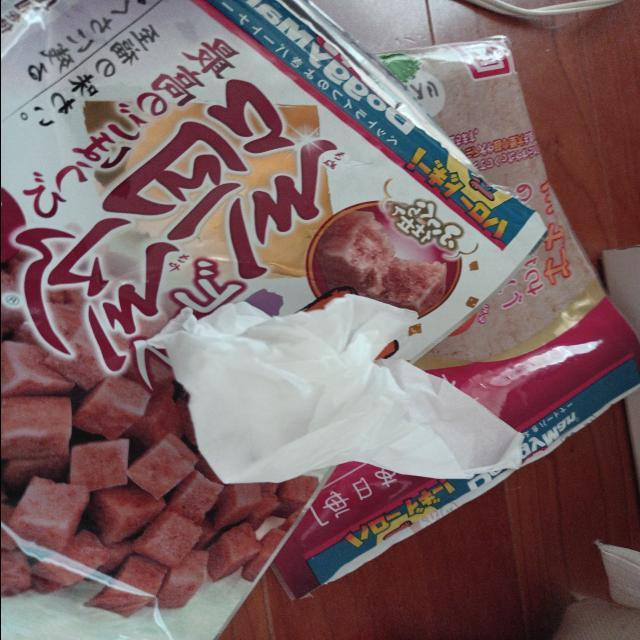Paper: (152, 291, 536, 496)
